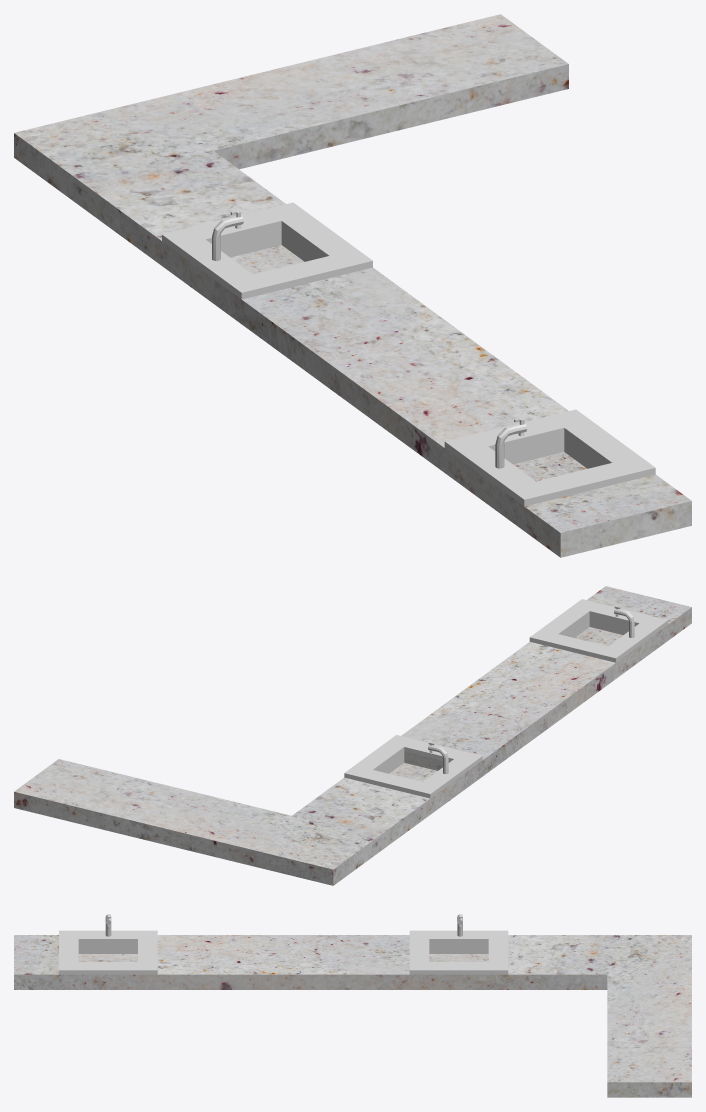
The model's file is balcão em L (ctrl j).fbx.
3 views of the same model, one above another, from view 1: azimuth 30°, elevation 25°; view 2: azimuth 150°, elevation 25°; view 3: azimuth 270°, elevation 25° (orthographic). The views are drawn at different scales.
Parts seen in each view (by area): view 1: balcão; view 2: balcão; view 3: balcão.
Boxes of the visible parts, left/top/right/bottom form: balcão: left=14, top=14, right=691, bottom=557; balcão: left=14, top=586, right=691, bottom=885; balcão: left=14, top=914, right=691, bottom=1097.
Size of the model in its own units: 2.06 by 0.2966 by 4.
Materials: 2 (1 with a texture image).
